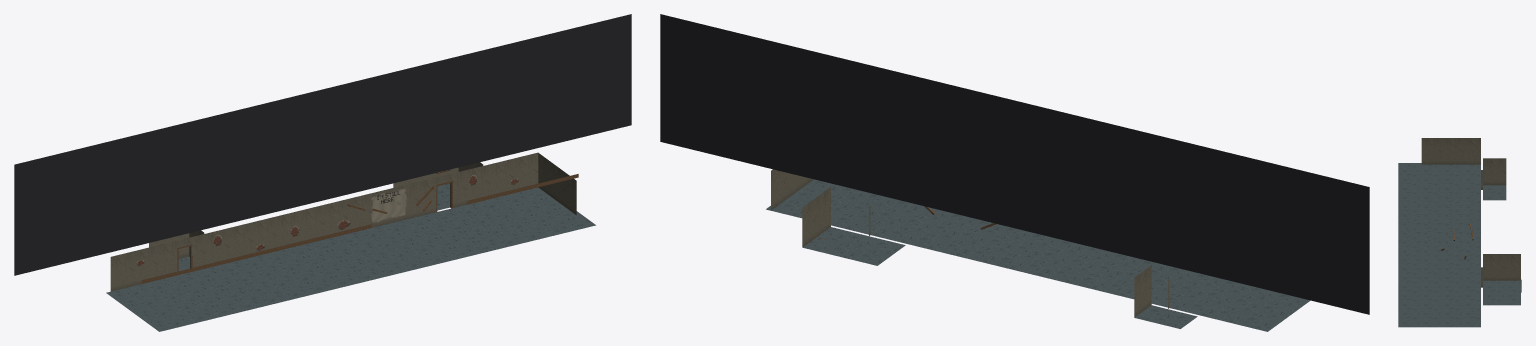
Rendered from shell.gltf.
3 views of the same model, side by side, from view 1: azimuth 30°, elevation 25°; view 2: azimuth 150°, elevation 25°; view 3: azimuth 270°, elevation 25° (orthographic). The views are drawn at different scales.
Visible parts, largest first — view 1: shell; view 2: shell; view 3: shell.
Boxes of the visible parts, box(x1,y1,x2,y2) form: shell: box(14, 14, 631, 331); shell: box(660, 14, 1369, 331); shell: box(1398, 138, 1521, 327).
Size of the model in its own units: 52 by 12 by 11.65.
Materials: 9 (8 with a texture image).
